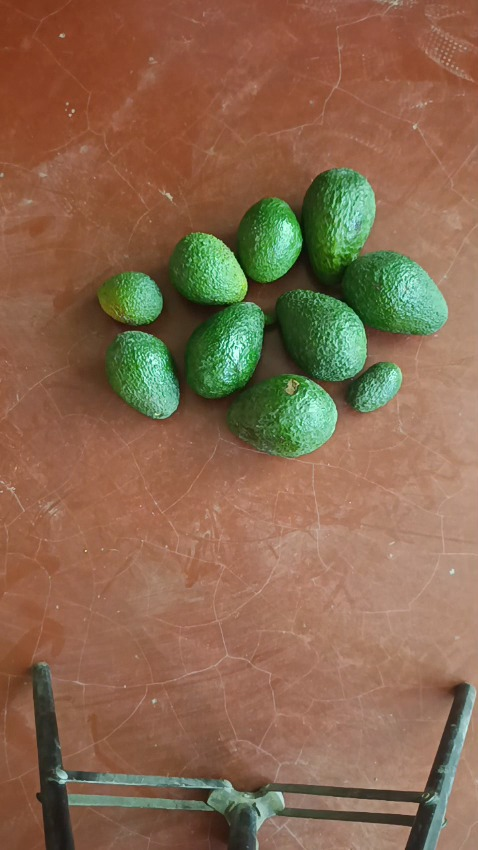Primera: (340, 251, 447, 336), (227, 374, 337, 455), (301, 168, 376, 284), (275, 289, 368, 381), (184, 302, 265, 399)
Segunda: (104, 331, 182, 419), (235, 197, 303, 283), (168, 232, 247, 305)
Tercera: (97, 271, 163, 327), (345, 361, 402, 413)
